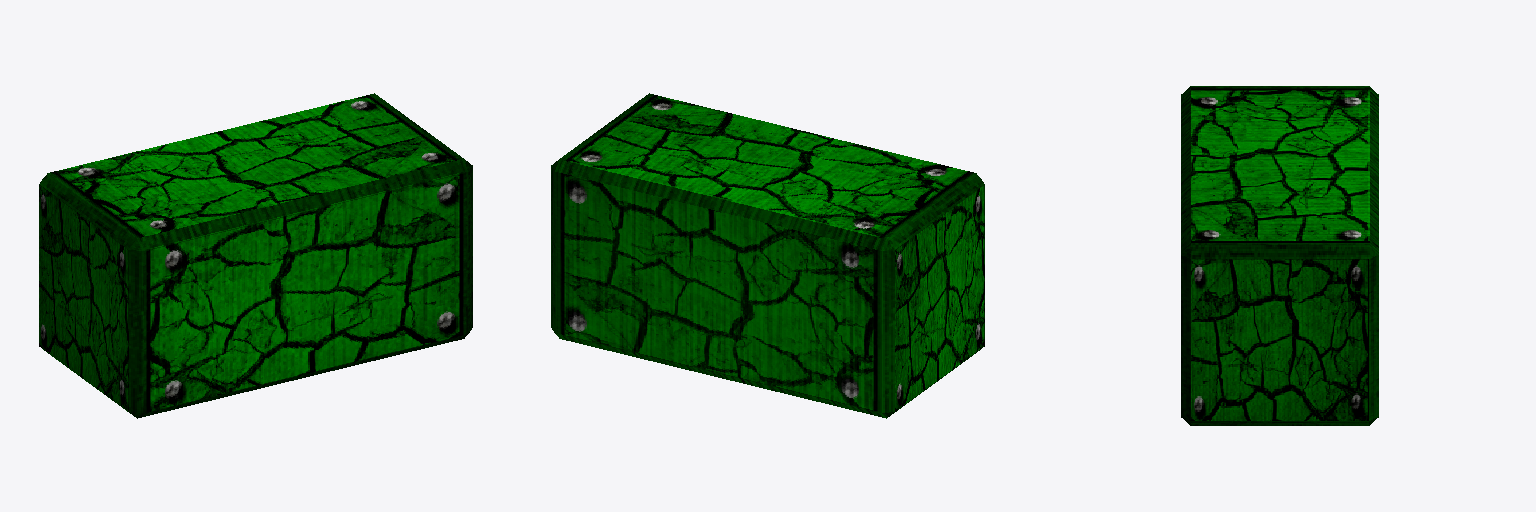
The picture shows the model from 3 angles: view 1: azimuth 30°, elevation 25°; view 2: azimuth 150°, elevation 25°; view 3: azimuth 270°, elevation 25°; orthographic projection.
Visible parts, largest first — view 1: default; view 2: default; view 3: default.
Boxes of the visible parts, x1=… form: default: x1=39, y1=93, x2=472, y2=418; default: x1=551, y1=93, x2=984, y2=418; default: x1=1181, y1=86, x2=1378, y2=425.
Bounding box in the file's own units: 2 × 1 × 1.
Materials: 1 (1 with a texture image).